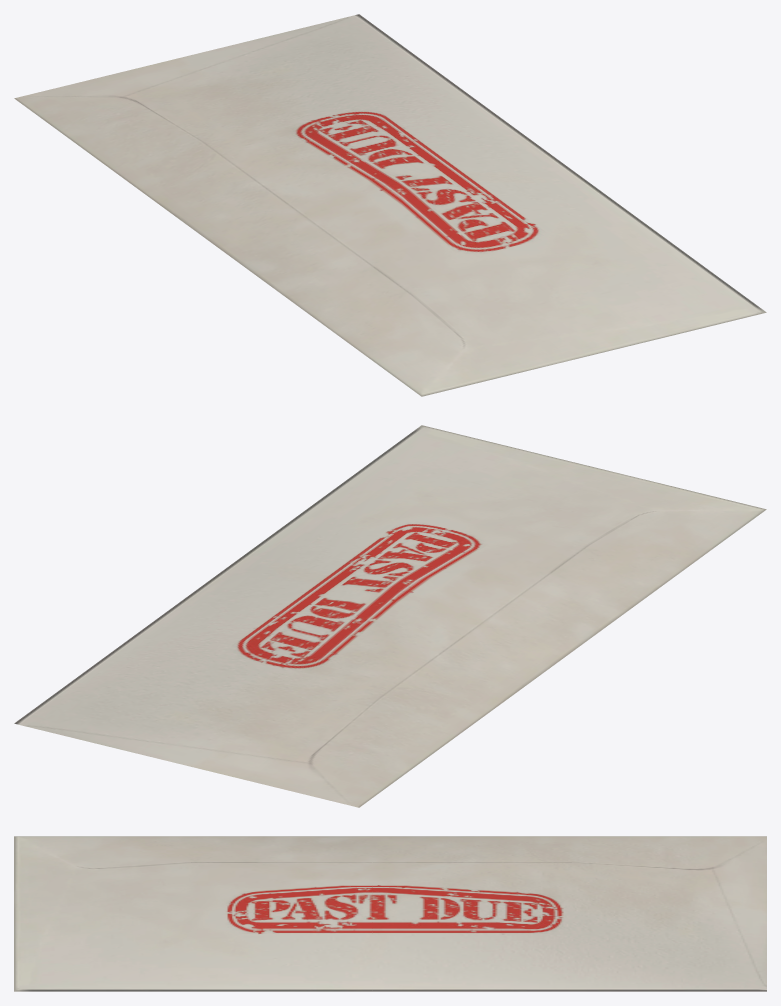
The model's file is SOBRE2.fbx.
The picture shows the model from 3 angles, top to bottom: view 1: azimuth 30°, elevation 25°; view 2: azimuth 150°, elevation 25°; view 3: azimuth 270°, elevation 25°; orthographic projection. The views are drawn at different scales.
Visible parts, largest first — view 1: SOBRE2; view 2: SOBRE2; view 3: SOBRE2.
Part boxes in pixels (x1,y1,x2,y2): SOBRE2: (14,14,766,396); SOBRE2: (14,425,766,807); SOBRE2: (14,836,766,991).
Bounding box in the file's own units: 13.12 × 1.87 × 26.83.
